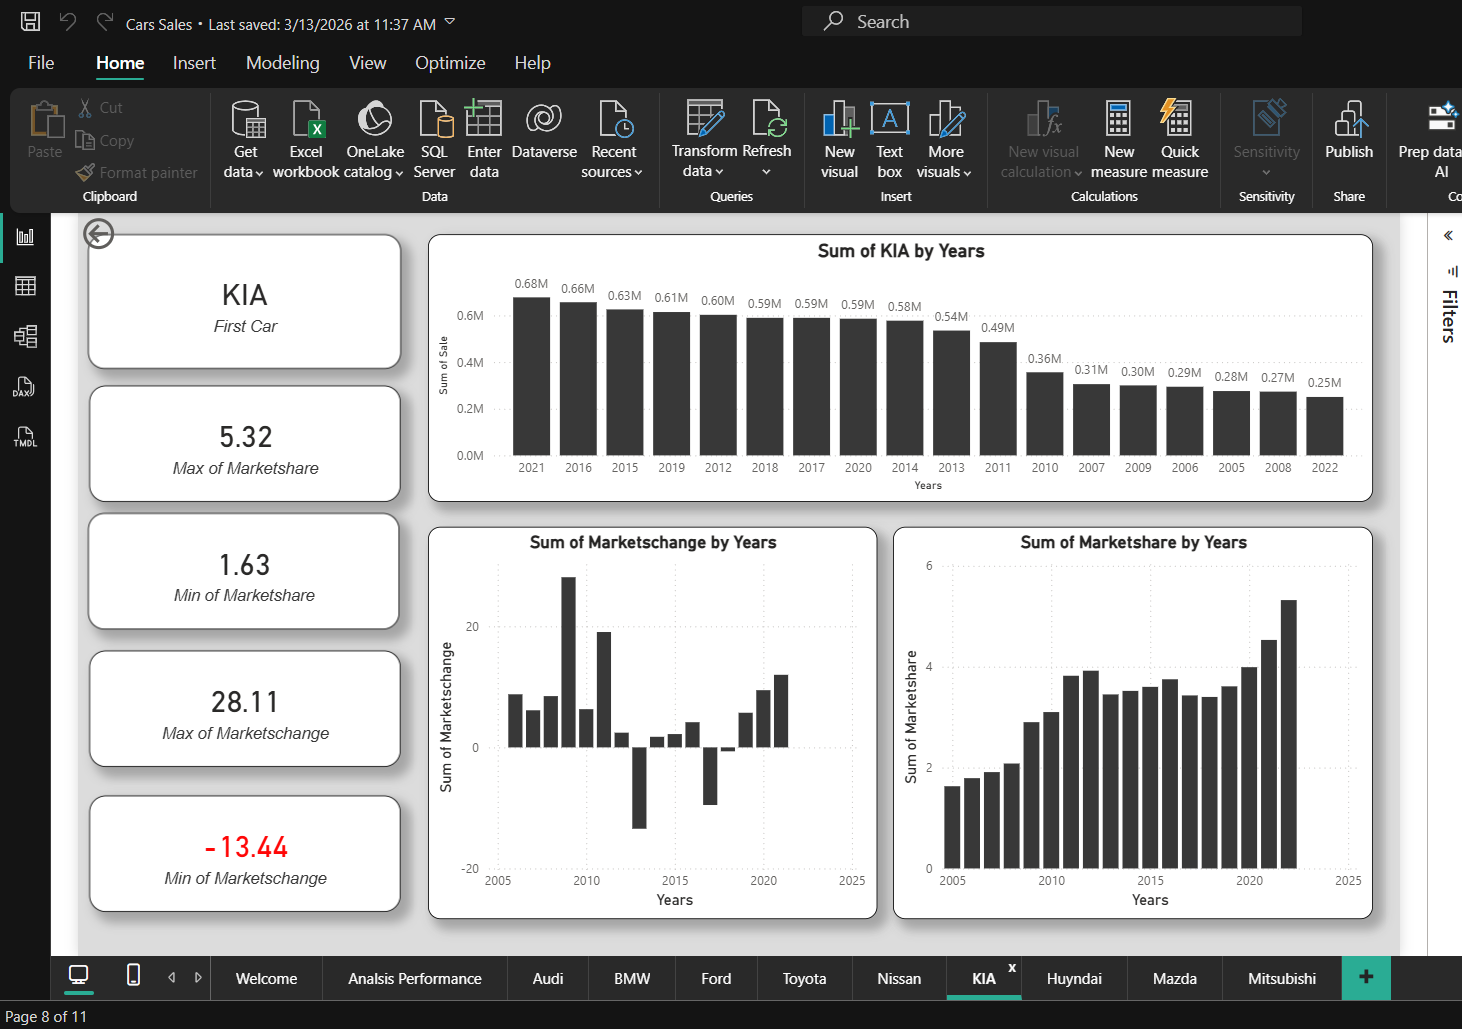

The dashboard page shown, as its layout file describes it:
{"tool":"powerbi","page":{"name":"KIA","canvas":[1280,720],"ordinal":7},"visuals":[{"type":"card","fields":{"Values":["Min(CAR SALES GLOBALY.Car)"]},"box":[9.6,20.6,303.3,130.4],"z":0},{"type":"actionButton","box":[0,0,100,40],"z":1000},{"type":"card","fields":{"Values":["Max(CAR SALES GLOBALY.Marketshare)"]},"box":[11,167.4,301.9,112.5],"z":2000},{"type":"card","fields":{"Values":["Min(CAR SALES GLOBALY.Marketshare)"]},"box":[9.6,290.9,301.9,112.5],"z":3000},{"type":"card","fields":{"Values":["Max(CAR SALES GLOBALY.Marketschange)"]},"box":[11,424,301.9,112.5],"z":4000},{"type":"card","fields":{"Values":["Min(CAR SALES GLOBALY.Marketschange)"]},"box":[11,564,301.9,112.5],"z":5000},{"type":"columnChart","title":"Sum of KIA by Years","fields":{"Category":["CAR SALES GLOBALY.Years"],"Y":["Sum(CAR SALES GLOBALY.Sale)"]},"box":[338.9,20.6,915.3,259.3],"z":6000},{"type":"lineStackedColumnComboChart","fields":{"Category":["CAR SALES GLOBALY.Years"],"Y":["Sum(CAR SALES GLOBALY.Marketschange)"]},"box":[338.9,303.3,435,380.1],"z":7000},{"type":"lineStackedColumnComboChart","fields":{"Category":["CAR SALES GLOBALY.Years"],"Y":["Sum(CAR SALES GLOBALY.Marketshare)"]},"box":[789,303.3,465.2,380.1],"z":8000}]}

Visuals, with their boxes on the page's 1280x720 design canvas (x1, y1, x2, y2). These are canvas units, not pixel positions in the 1462x1029 screenshot, which may show the page scaled, cropped or inside an application window:
card - Min(CAR SALES GLOBALY.Car): rect(10, 21, 313, 151)
actionButton: rect(0, 0, 100, 40)
card - Max(CAR SALES GLOBALY.Marketshare): rect(11, 167, 313, 280)
card - Min(CAR SALES GLOBALY.Marketshare): rect(10, 291, 312, 403)
card - Max(CAR SALES GLOBALY.Marketschange): rect(11, 424, 313, 536)
card - Min(CAR SALES GLOBALY.Marketschange): rect(11, 564, 313, 676)
"Sum of KIA by Years" columnChart: rect(339, 21, 1254, 280)
lineStackedColumnComboChart - CAR SALES GLOBALY.Years x Sum(CAR SALES GLOBALY.Marketschange): rect(339, 303, 774, 683)
lineStackedColumnComboChart - CAR SALES GLOBALY.Years x Sum(CAR SALES GLOBALY.Marketshare): rect(789, 303, 1254, 683)
